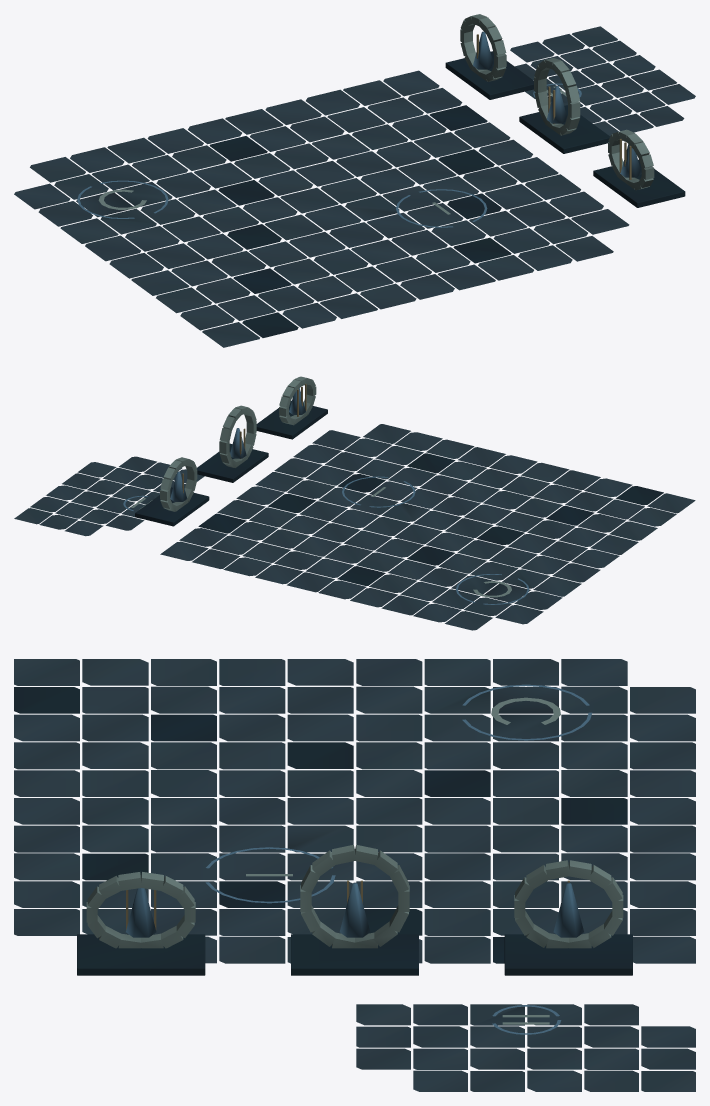
File: moonveil-null-choir-court-v1.glb
3 renders of one model, top to bottom at view 1: azimuth 30°, elevation 25°; view 2: azimuth 150°, elevation 25°; view 3: azimuth 270°, elevation 25°, orthographic. The views are drawn at different scales.
Parts seen in each view (by area): view 1: GB_CHOIR_WEST, GB_CHOIR_RESONATORS, GB_CHOIR_EAST, GB_CHOIR_INDEX; view 2: GB_CHOIR_WEST, GB_CHOIR_RESONATORS, GB_CHOIR_EAST, GB_CHOIR_INDEX; view 3: GB_CHOIR_WEST, GB_CHOIR_RESONATORS, GB_CHOIR_EAST, GB_CHOIR_INDEX.
Part boxes in pixels (left/top/right/bottom): GB_CHOIR_WEST: left=14, top=70, right=629, bottom=347; GB_CHOIR_RESONATORS: left=445, top=14, right=685, bottom=207; GB_CHOIR_EAST: left=510, top=26, right=695, bottom=136; GB_CHOIR_INDEX: left=77, top=83, right=581, bottom=227; GB_CHOIR_WEST: left=160, top=424, right=695, bottom=630; GB_CHOIR_RESONATORS: left=135, top=376, right=327, bottom=526; GB_CHOIR_EAST: left=14, top=456, right=204, bottom=536; GB_CHOIR_INDEX: left=123, top=476, right=529, bottom=604; GB_CHOIR_WEST: left=14, top=659, right=695, bottom=963; GB_CHOIR_RESONATORS: left=77, top=845, right=632, bottom=975; GB_CHOIR_EAST: left=356, top=1004, right=695, bottom=1091; GB_CHOIR_INDEX: left=205, top=684, right=591, bottom=1034.
Bounding box in the file's own units: 47.89 × 6.73 × 31.89.
